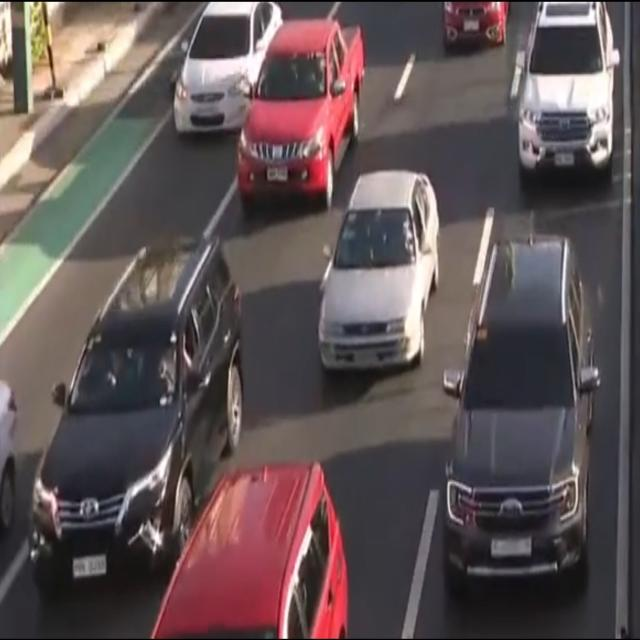SUV: (27, 192, 268, 583), (422, 204, 622, 610), (130, 412, 388, 640), (227, 0, 371, 212), (511, 0, 630, 198)
Sedan: (315, 130, 452, 382), (153, 0, 290, 158)
